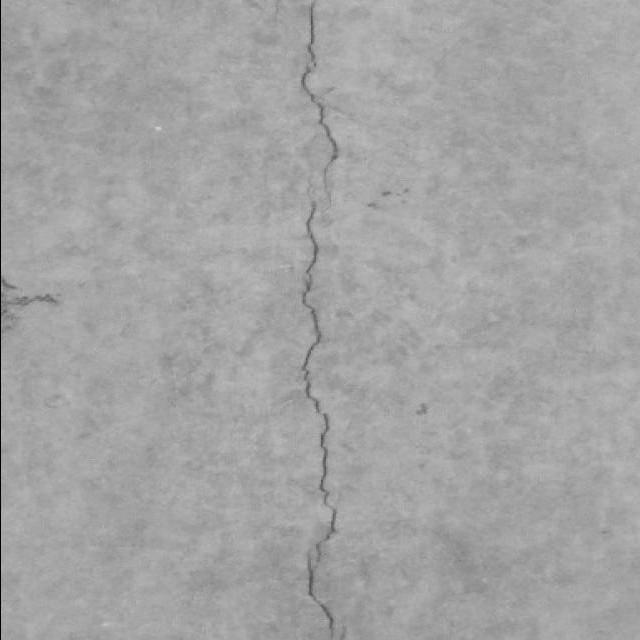SurfaceCrack: (252, 0, 377, 640)
